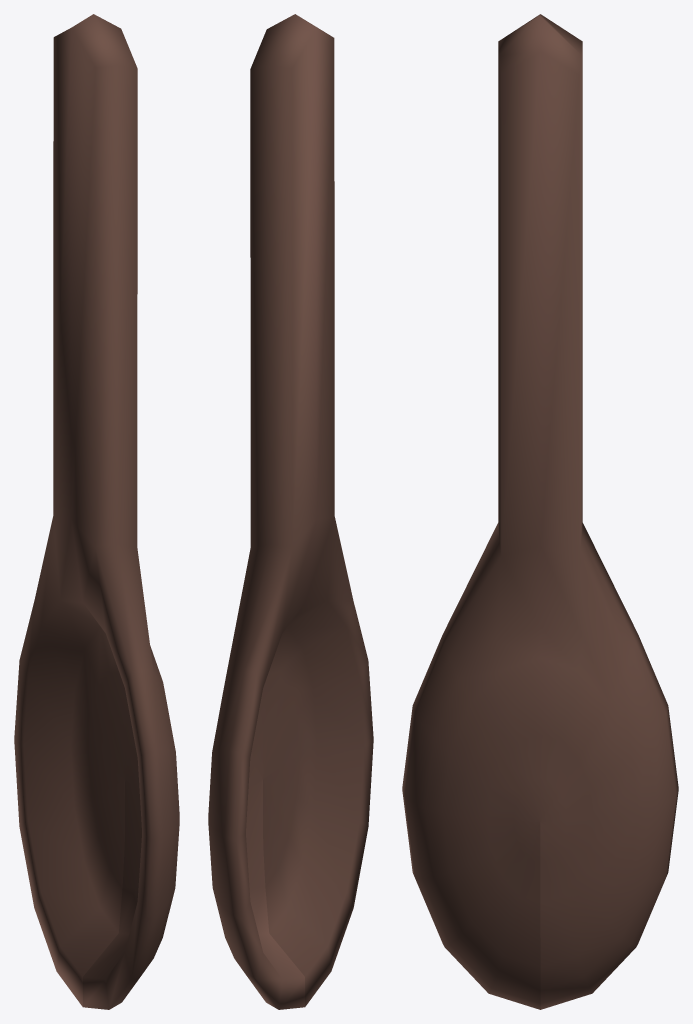
The model's file is Colher__Lab_LoPo.fbx.
3 views of the same model, side by side, from view 1: azimuth 30°, elevation 25°; view 2: azimuth 150°, elevation 25°; view 3: azimuth 270°, elevation 25° (orthographic).
Visible parts, largest first — view 1: Colher__Lab_LoPo; view 2: Colher__Lab_LoPo; view 3: Colher__Lab_LoPo.
Part boxes in pixels (x1,y1,x2,y2): Colher__Lab_LoPo: (14, 14, 179, 1009); Colher__Lab_LoPo: (208, 14, 373, 1009); Colher__Lab_LoPo: (402, 14, 678, 1009).
Size of the model in its own units: 7.09 by 84.6 by 21.28.
